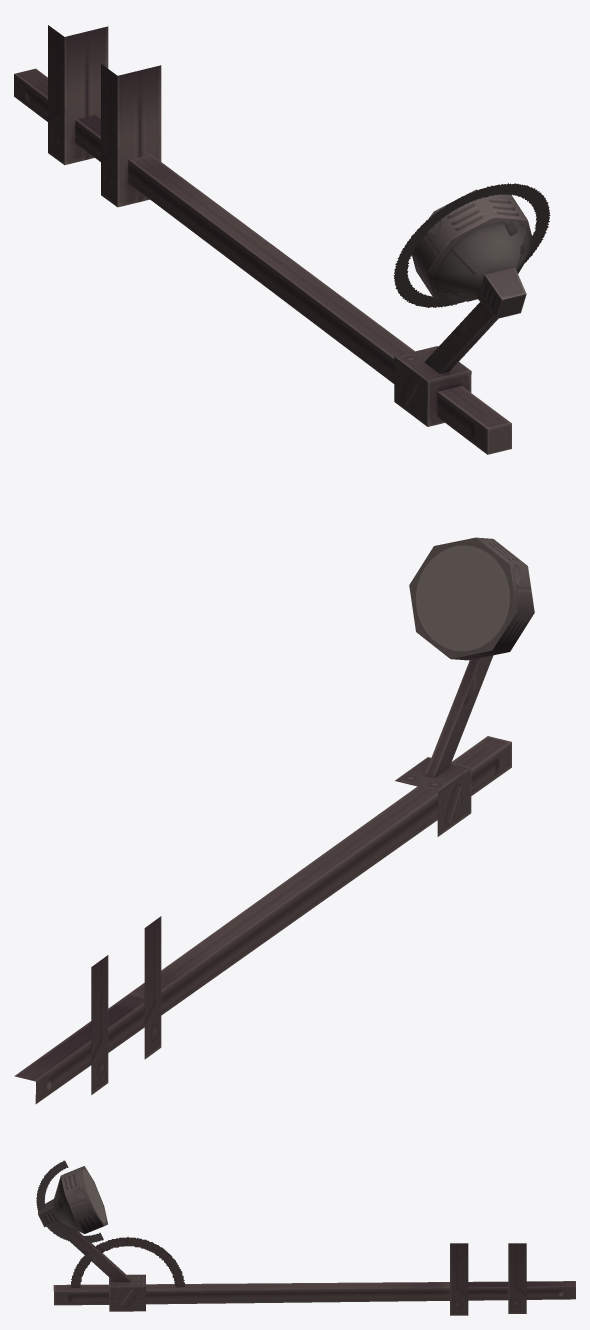
File: rail lamp high.glb
3 views of the same model, one above another, from view 1: azimuth 30°, elevation 25°; view 2: azimuth 150°, elevation 25°; view 3: azimuth 270°, elevation 25° (orthographic). The views are drawn at different scales.
Visible parts, largest first — view 1: lights.rail_lamp_high-MeshNodes["lamp_rail01"], lights.rail_lamp_high-MeshNodes["lamp_rail_01_twosided"]; view 2: lights.rail_lamp_high-MeshNodes["lamp_rail01"]; view 3: lights.rail_lamp_high-MeshNodes["lamp_rail01"], lights.rail_lamp_high-MeshNodes["lamp_rail_01_twosided"].
Part boxes in pixels (bbox=[...]): lights.rail_lamp_high-MeshNodes["lamp_rail01"]: bbox=[14, 25, 534, 454]; lights.rail_lamp_high-MeshNodes["lamp_rail_01_twosided"]: bbox=[393, 183, 550, 307]; lights.rail_lamp_high-MeshNodes["lamp_rail01"]: bbox=[14, 537, 534, 1103]; lights.rail_lamp_high-MeshNodes["lamp_rail01"]: bbox=[38, 1166, 575, 1315]; lights.rail_lamp_high-MeshNodes["lamp_rail_01_twosided"]: bbox=[36, 1160, 184, 1287].
Bounding box in the file's own units: 1.39 × 2.21 × 7.32.
1 material, 1 textured.
